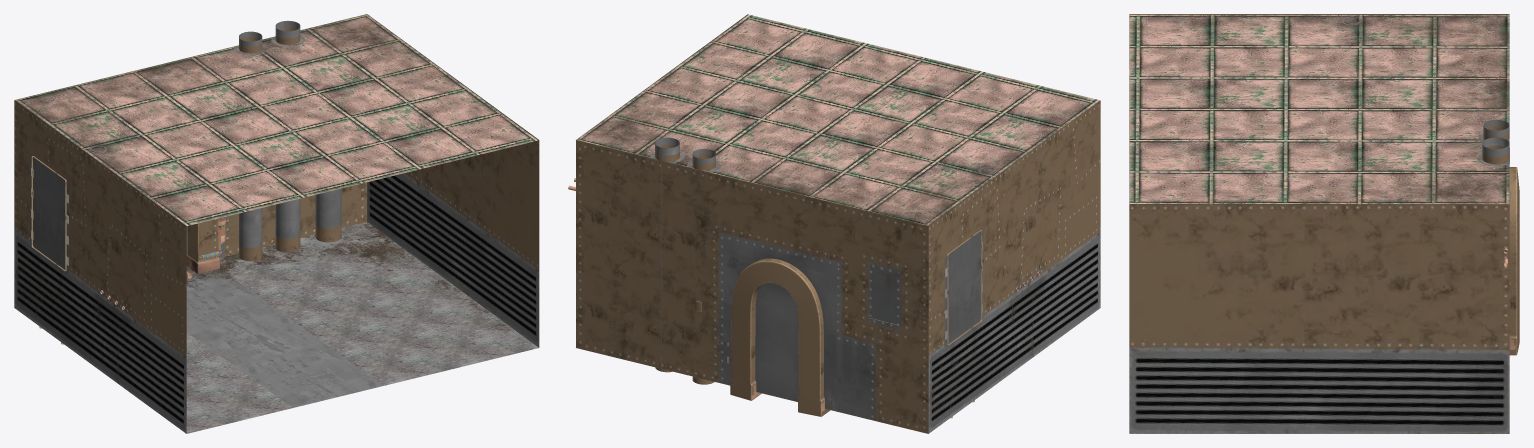
The model's file is time-room.glb.
The picture shows the model from 3 angles, left to right: view 1: azimuth 30°, elevation 25°; view 2: azimuth 150°, elevation 25°; view 3: azimuth 270°, elevation 25°; orthographic projection. The views are drawn at different scales.
Parts seen in each view (by area): view 1: Walls, Roof, Floor, Ypipe, ValvePipe, TimePortal, Guagebox; view 2: Walls, Roof, TimePortal, Ypipe, ValvePipe, Guagebox; view 3: Walls, Roof, TimePortal, Ypipe, ValvePipe, Floor.
Part boxes in pixels (x1,y1,x2,y2): Walls: [14, 14, 539, 433]; Roof: [15, 14, 538, 225]; Floor: [186, 222, 538, 433]; Ypipe: [275, 20, 341, 252]; ValvePipe: [239, 31, 262, 261]; TimePortal: [186, 218, 219, 273]; Guagebox: [31, 156, 191, 344]; Walls: [576, 14, 1100, 433]; Roof: [577, 14, 1099, 225]; TimePortal: [730, 258, 830, 416]; Ypipe: [649, 137, 679, 372]; ValvePipe: [692, 149, 715, 384]; Guagebox: [945, 230, 982, 418]; Walls: [1129, 14, 1509, 433]; Roof: [1129, 14, 1509, 204]; TimePortal: [1509, 167, 1519, 355]; Ypipe: [1482, 137, 1509, 164]; ValvePipe: [1483, 119, 1510, 295]; Floor: [1130, 433, 1509, 433].
Size of the model in its own units: 6.16 by 3.7 by 5.2.
17 materials, 16 textured.
